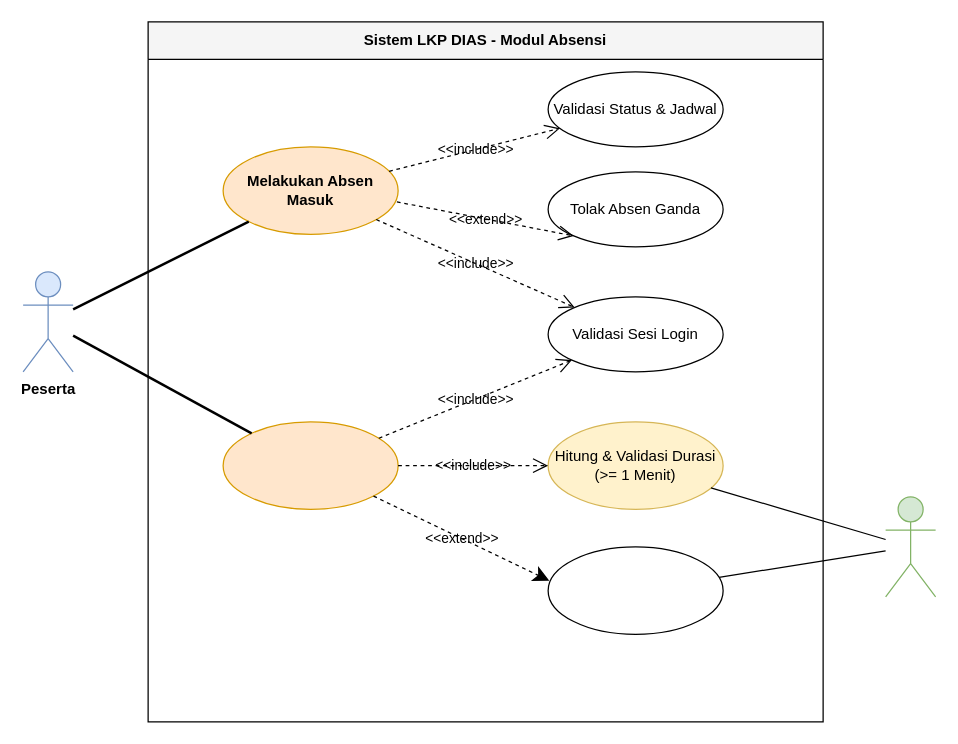
The diagram is 958 pixels wide and 744 high, and some of its shapes have lost their labels. Each missing label, with the centre of its shape:
Melakukan Absen Keluar: point 310,465
Sistem: point 910,546
Update Kelulusan Otomatis: point 635,590
